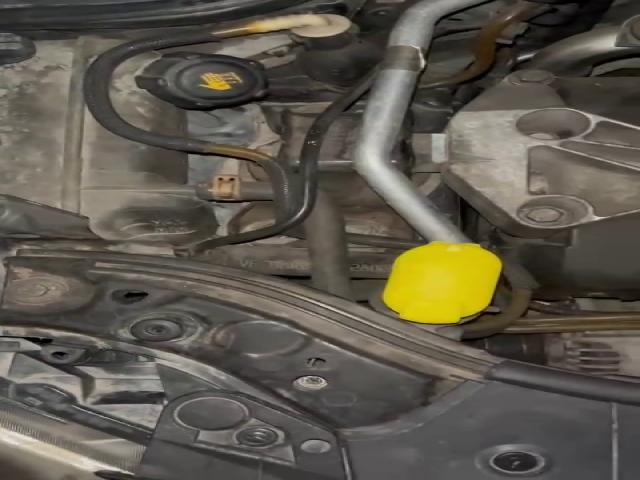antifreeze_tank: (0, 37, 214, 244), (110, 52, 265, 136)
